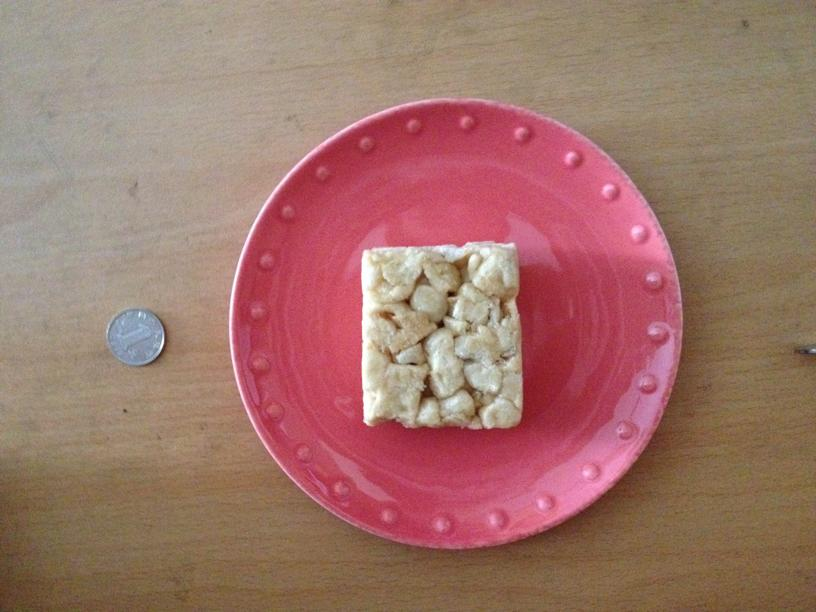coin: (101, 307, 167, 366)
sachima: (350, 244, 527, 431)
